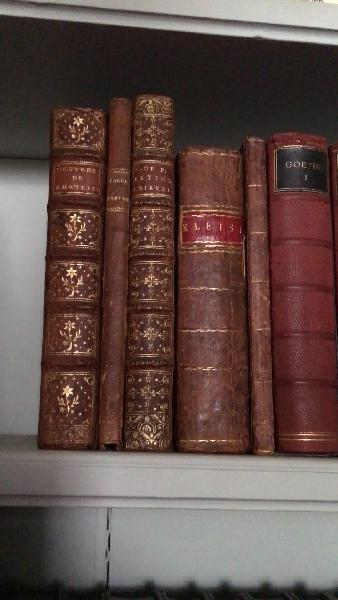Aa6-10: (241, 132, 278, 452)
Aa6-6: (42, 101, 107, 453)
Aa6-7: (97, 96, 132, 446)
Aa6-8: (128, 86, 177, 451)
Aa6-9: (177, 139, 250, 452)
